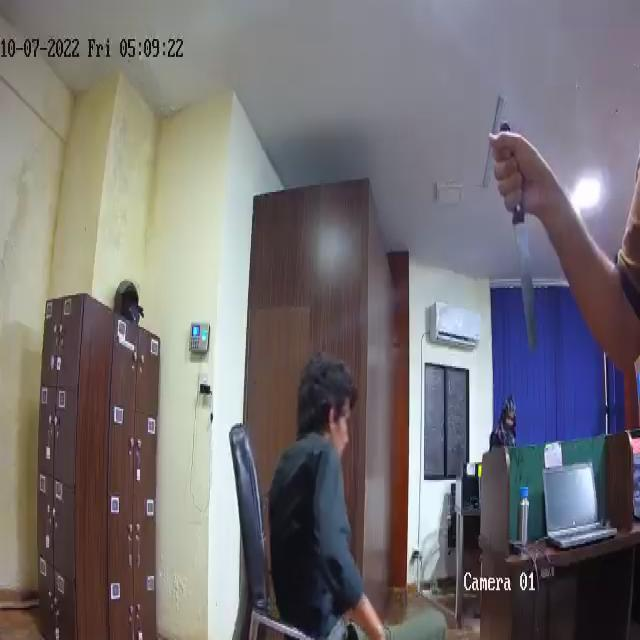Knife: (494, 119, 538, 350)
